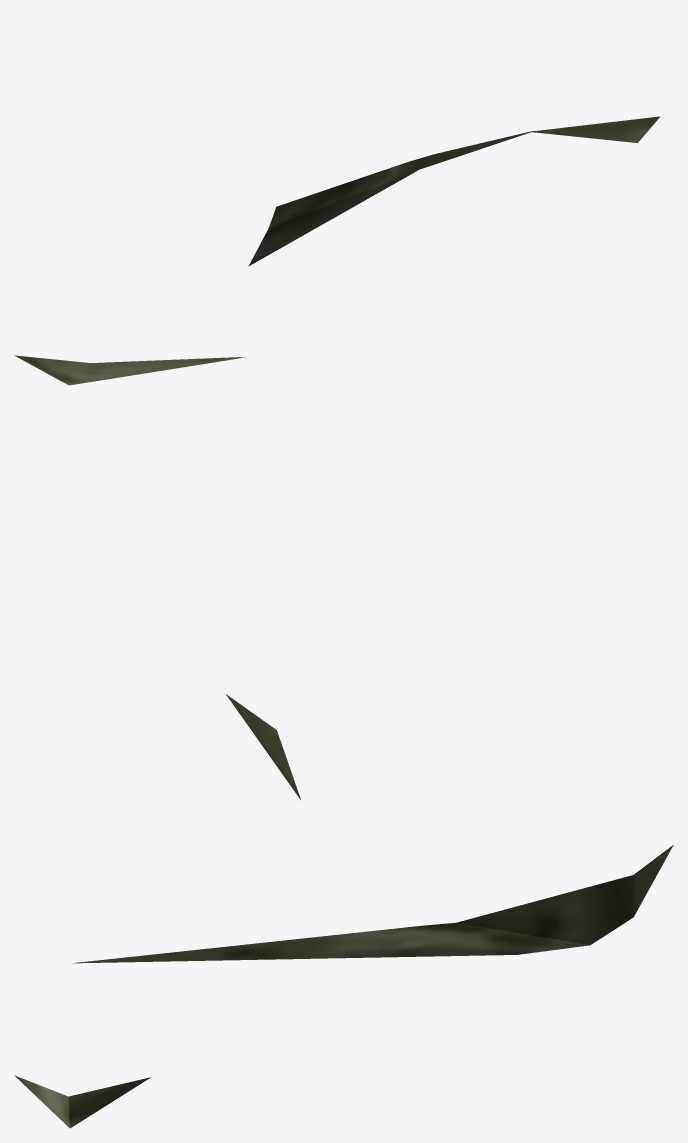
The picture shows the model from 3 angles, top to bottom: view 1: azimuth 30°, elevation 25°; view 2: azimuth 150°, elevation 25°; view 3: azimuth 270°, elevation 25°; orthographic projection. The views are drawn at different scales.
Size of the model in its own units: 0.4917 by 0.1005 by 0.5438.
1 material, 1 textured.
